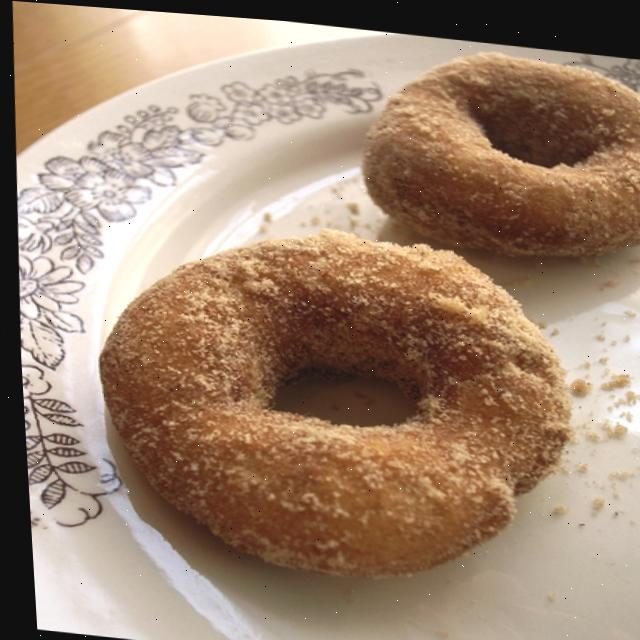炸货点心: (31, 2, 640, 626)
